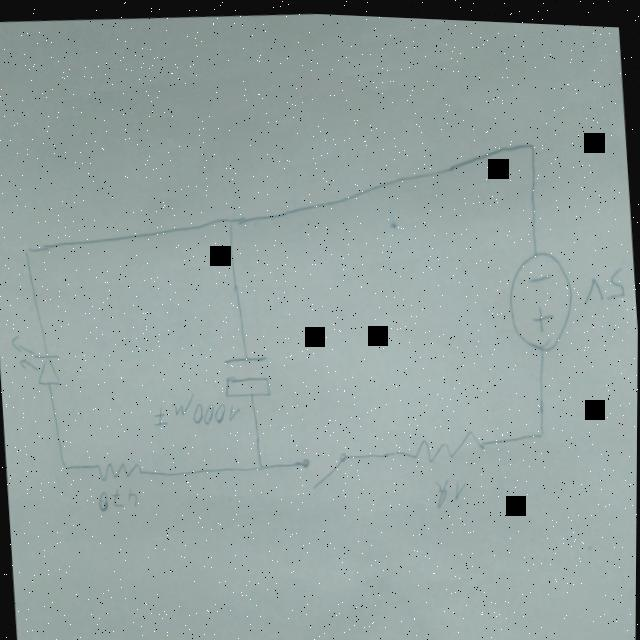capacitor: (222, 347, 274, 400)
diode: (7, 325, 66, 391)
junction: (522, 130, 542, 156), (219, 208, 239, 232), (19, 244, 34, 265), (256, 455, 271, 473), (60, 456, 74, 475), (536, 418, 549, 438)
resistor: (405, 417, 493, 465), (90, 450, 150, 484)
source: (505, 241, 578, 352)
switch: (299, 446, 351, 491)
text: (150, 384, 243, 433), (579, 255, 629, 304), (97, 480, 144, 516), (432, 468, 472, 508)
